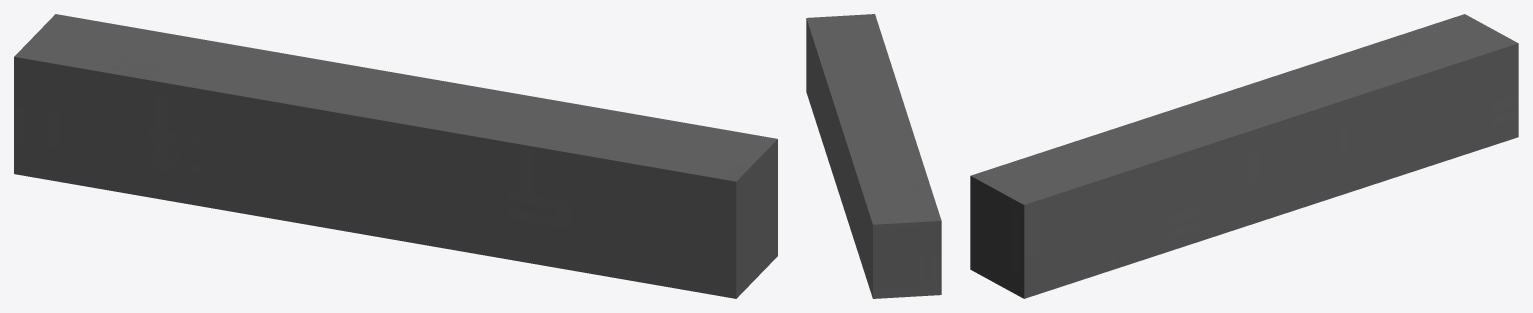
The model's file is frame__back_hinge_strut.glb.
3 renders of one model, left to right at view 1: azimuth 30°, elevation 25°; view 2: azimuth 150°, elevation 25°; view 3: azimuth 270°, elevation 25°, orthographic. The views are drawn at different scales.
Parts seen in each view (by area): view 1: geometry_0; view 2: geometry_0; view 3: geometry_0.
Part boxes in pixels (box(x1,y1,x2,y2)): geometry_0: box(14, 14, 777, 298); geometry_0: box(806, 14, 941, 298); geometry_0: box(970, 14, 1518, 298).
Bounding box in the file's own units: 0.2835 × 0.065 × 0.3437.
1 material, 1 textured.
